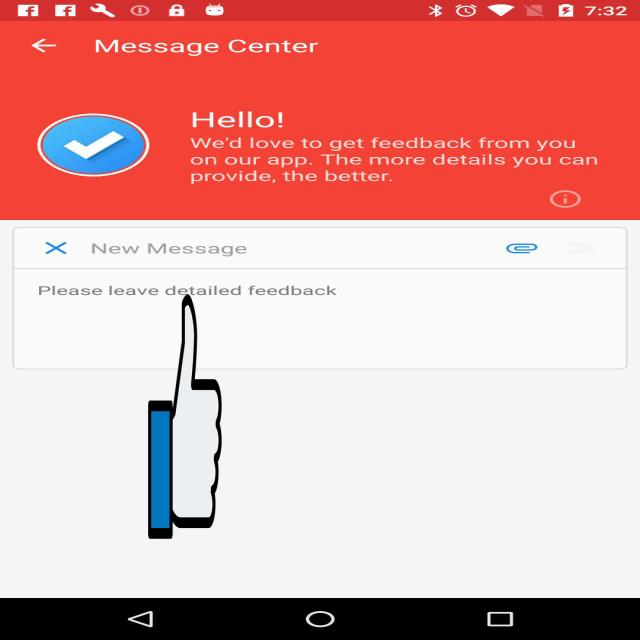privacy zuckering: (148, 289, 222, 544)
